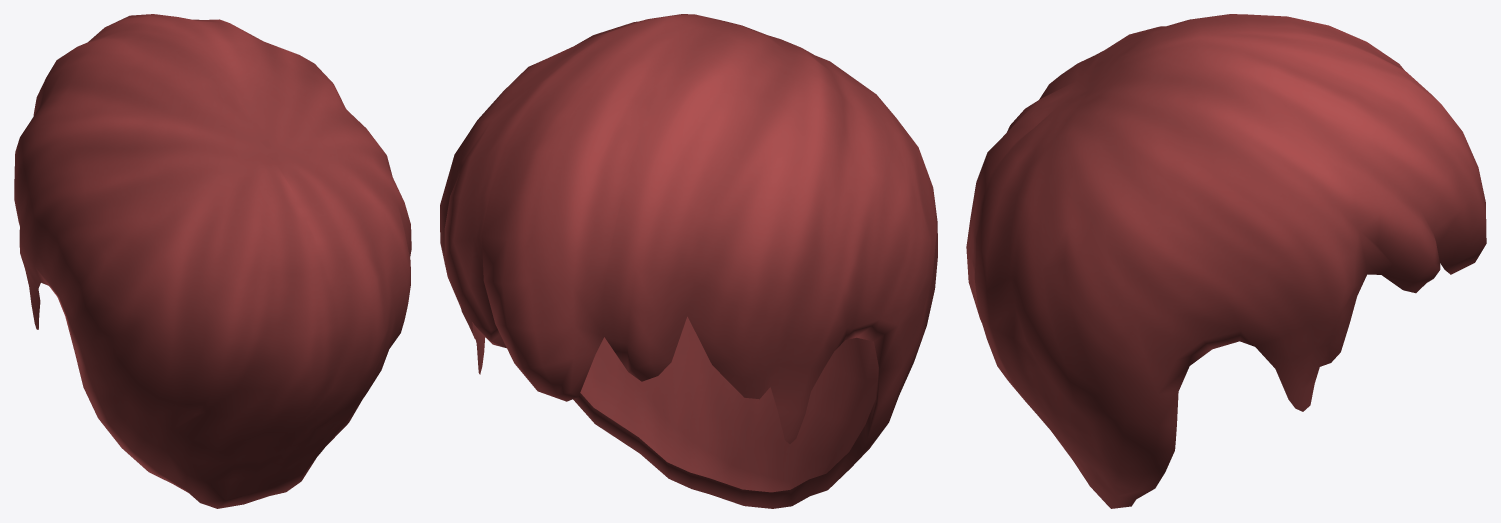
The model's file is Hair_Male_001_textured_red.glb.
The picture shows the model from 3 angles, left to right: view 1: azimuth 30°, elevation 25°; view 2: azimuth 150°, elevation 25°; view 3: azimuth 270°, elevation 25°; orthographic projection. The views are drawn at different scales.
Visible parts, largest first — view 1: Hair_Male_001; view 2: Hair_Male_001; view 3: Hair_Male_001.
Boxes of the visible parts, <box> form: Hair_Male_001: <box>14,14,411,508</box>; Hair_Male_001: <box>440,14,937,508</box>; Hair_Male_001: <box>966,14,1486,508</box>.
Bounding box in the file's own units: 0.189 × 0.2389 × 0.2448.
Materials: 1 (1 with a texture image).
